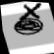not correct: (2, 0, 53, 42)
